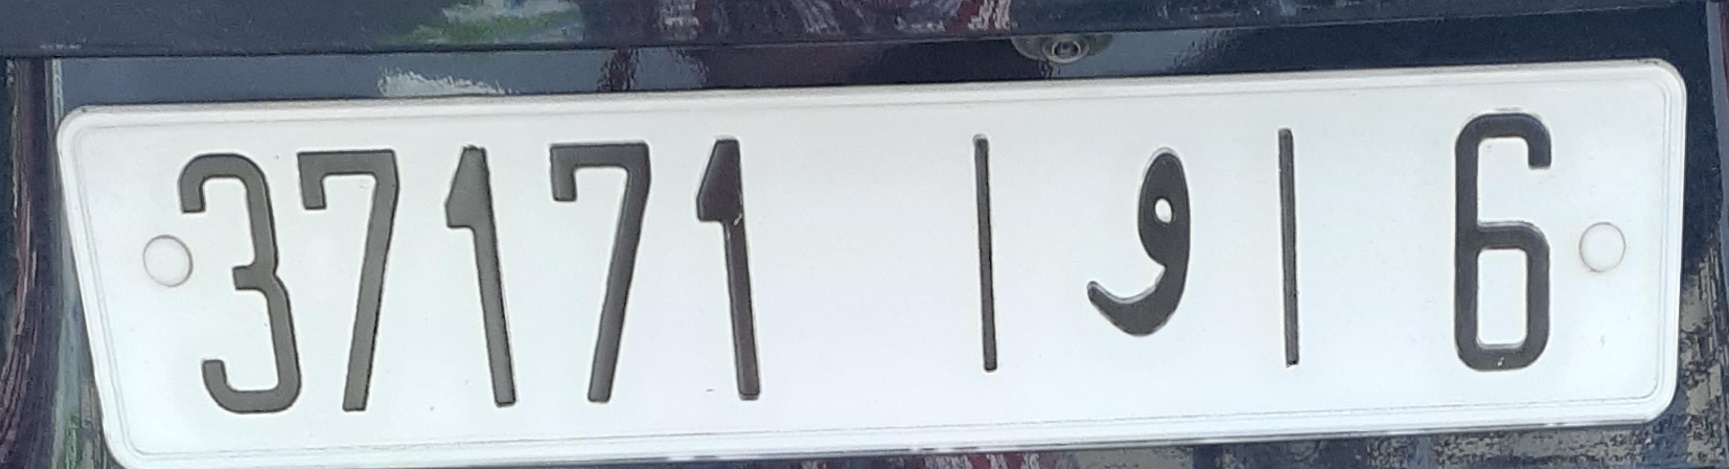1: (686, 120, 791, 405), (431, 125, 523, 418)
3: (166, 145, 306, 426)
6: (1428, 94, 1568, 400)
7: (293, 132, 426, 428), (541, 122, 668, 421)
waw: (1076, 138, 1229, 375)
